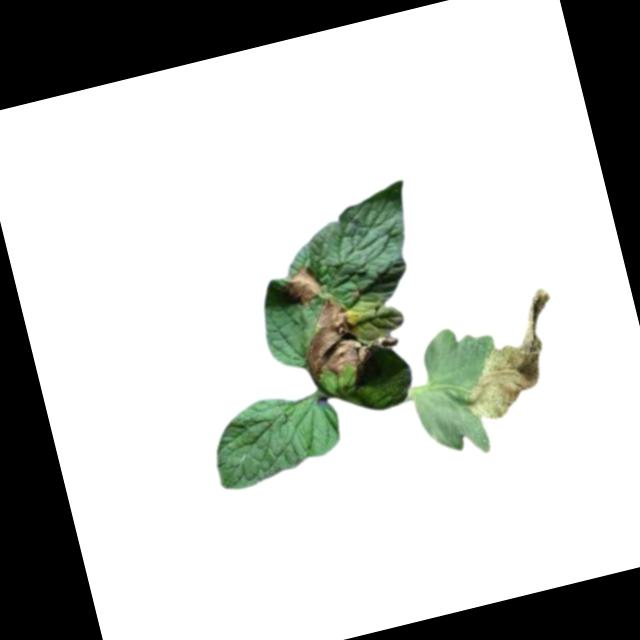Late_blight: (441, 283, 577, 426), (293, 284, 407, 390), (279, 260, 330, 308)
healthy: (204, 383, 354, 502)
